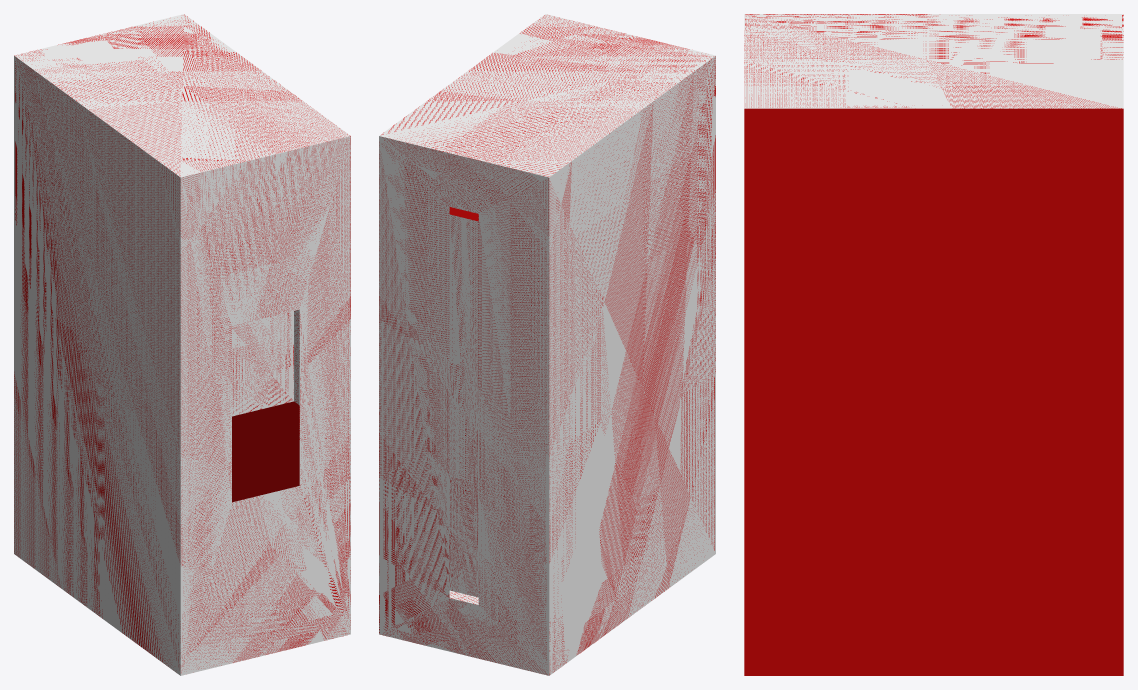
The model's file is original-10.obj.
3 views of the same model, side by side, from view 1: azimuth 30°, elevation 25°; view 2: azimuth 150°, elevation 25°; view 3: azimuth 270°, elevation 25° (orthographic). The views are drawn at different scales.
Visible parts, largest first — view 1: mesh8/mesh8-geometry/material_2#mesh8-geometry; view 2: mesh8/mesh8-geometry/material_2#mesh8-geometry; view 3: mesh8/mesh8-geometry/material_2#mesh8-geometry.
Part boxes in pixels (bbox=[...]): mesh8/mesh8-geometry/material_2#mesh8-geometry: bbox=[14, 14, 350, 675]; mesh8/mesh8-geometry/material_2#mesh8-geometry: bbox=[379, 14, 715, 675]; mesh8/mesh8-geometry/material_2#mesh8-geometry: bbox=[744, 14, 1123, 675].
Size of the model in its own units: 0.4917 by 1.38 by 0.8334.
